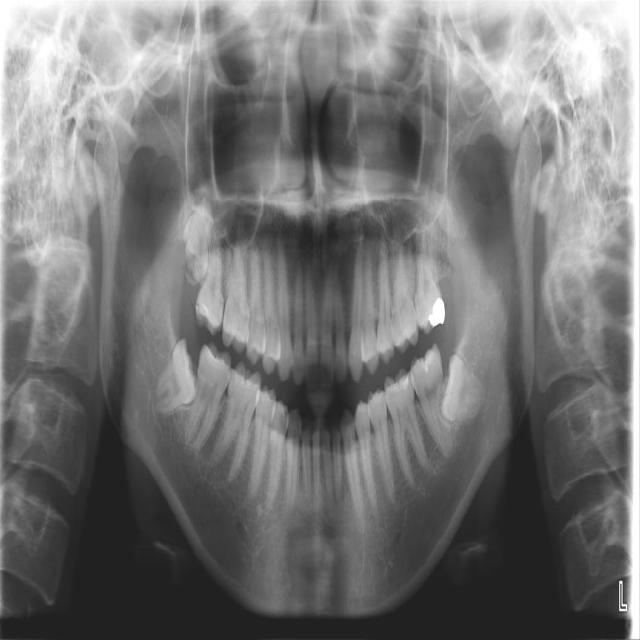Filling: (426, 296, 448, 327), (387, 377, 412, 397)
impacted tooth: (177, 183, 214, 284), (149, 338, 195, 415), (443, 354, 491, 422)
